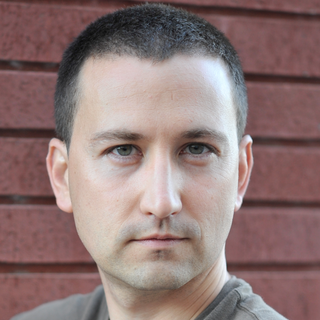eye: (96, 139, 144, 164), (175, 138, 221, 163)
